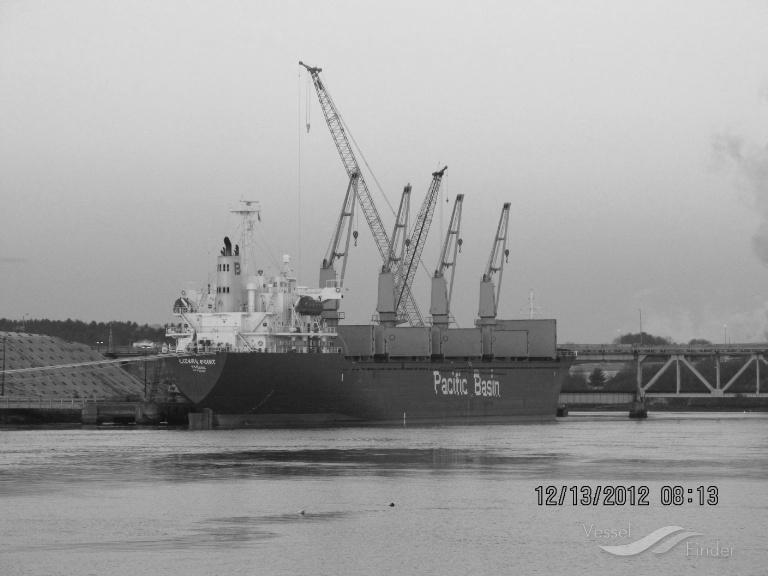OCR: (420, 366, 506, 399), (165, 348, 216, 382)
